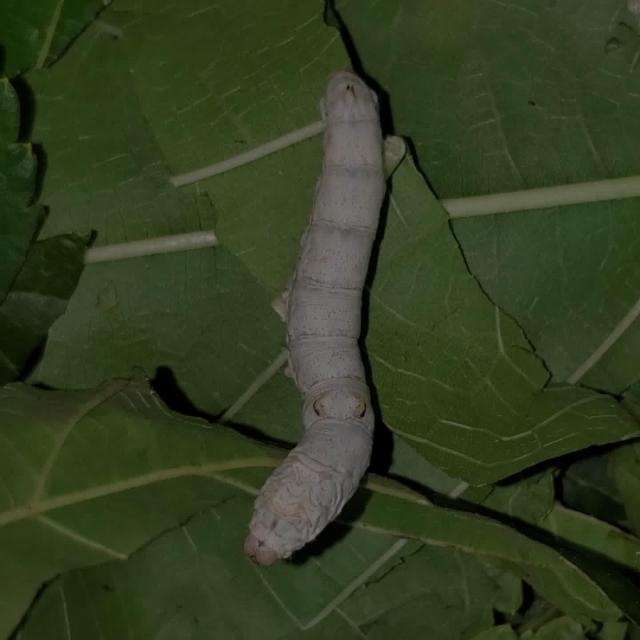Healthy: (237, 40, 425, 588)
